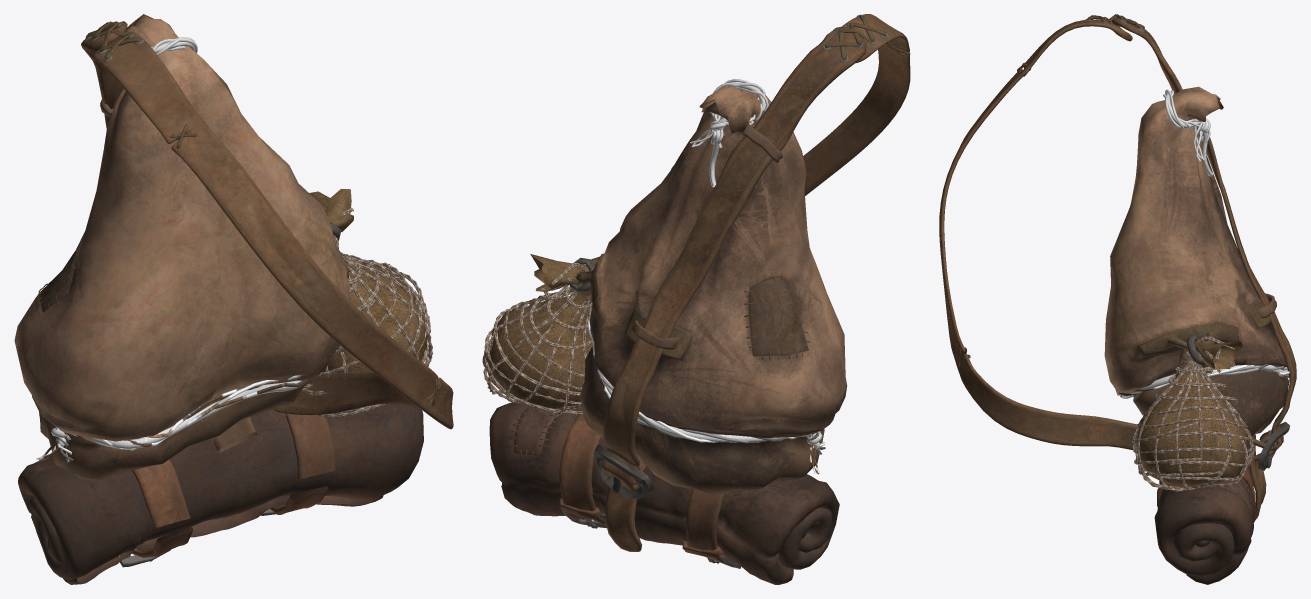
Rendered from natural-travel-pack-source.glb.
3 renders of one model, left to right at view 1: azimuth 30°, elevation 25°; view 2: azimuth 150°, elevation 25°; view 3: azimuth 270°, elevation 25°, orthographic. The views are drawn at different scales.
Visible parts, largest first — view 1: natural-travel-pack-source runtime mesh; view 2: natural-travel-pack-source runtime mesh; view 3: natural-travel-pack-source runtime mesh.
Boxes of the visible parts, bbox=[...] form: natural-travel-pack-source runtime mesh: bbox=[14, 14, 453, 584]; natural-travel-pack-source runtime mesh: bbox=[482, 14, 910, 584]; natural-travel-pack-source runtime mesh: bbox=[939, 14, 1296, 584].
Bounding box in the file's own units: 0.3249 × 0.48 × 0.3364.
Materials: 2 (2 with a texture image).
